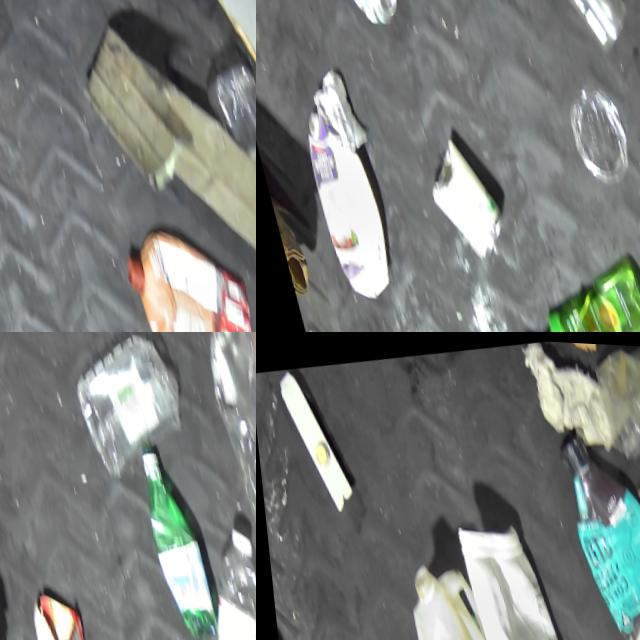can: (409, 123, 506, 269), (539, 0, 627, 45), (323, 0, 407, 40)
milk_jug: (281, 100, 394, 306), (451, 518, 580, 640), (389, 548, 511, 640)
non_white_jug: (552, 425, 640, 640), (101, 215, 256, 332)
plastic_bottle: (124, 433, 216, 639), (167, 519, 256, 640), (213, 52, 256, 185)
